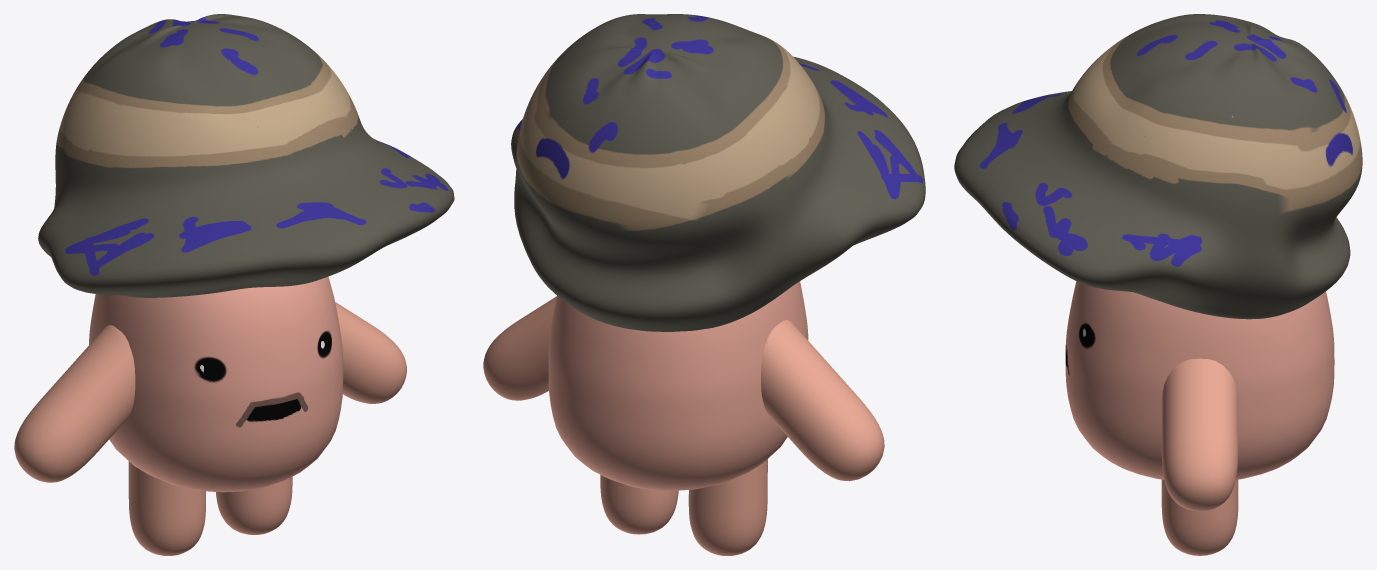
Rendered from personagem.glb.
3 views of the same model, side by side, from view 1: azimuth 30°, elevation 25°; view 2: azimuth 150°, elevation 25°; view 3: azimuth 270°, elevation 25° (orthographic). The views are drawn at different scales.
Parts seen in each view (by area): view 1: Sphere, Cube.001; view 2: Sphere, Cube.001; view 3: Sphere, Cube.001.
Boxes of the visible parts, bbox=[...] form: Sphere: bbox=[38, 14, 454, 297]; Cube.001: bbox=[14, 276, 406, 555]; Sphere: bbox=[511, 14, 925, 331]; Cube.001: bbox=[483, 281, 884, 555]; Sphere: bbox=[954, 14, 1362, 319]; Cube.001: bbox=[1065, 281, 1334, 555].
Size of the model in its own units: 2.94 by 3.7 by 2.75.
3 materials, 2 textured.
